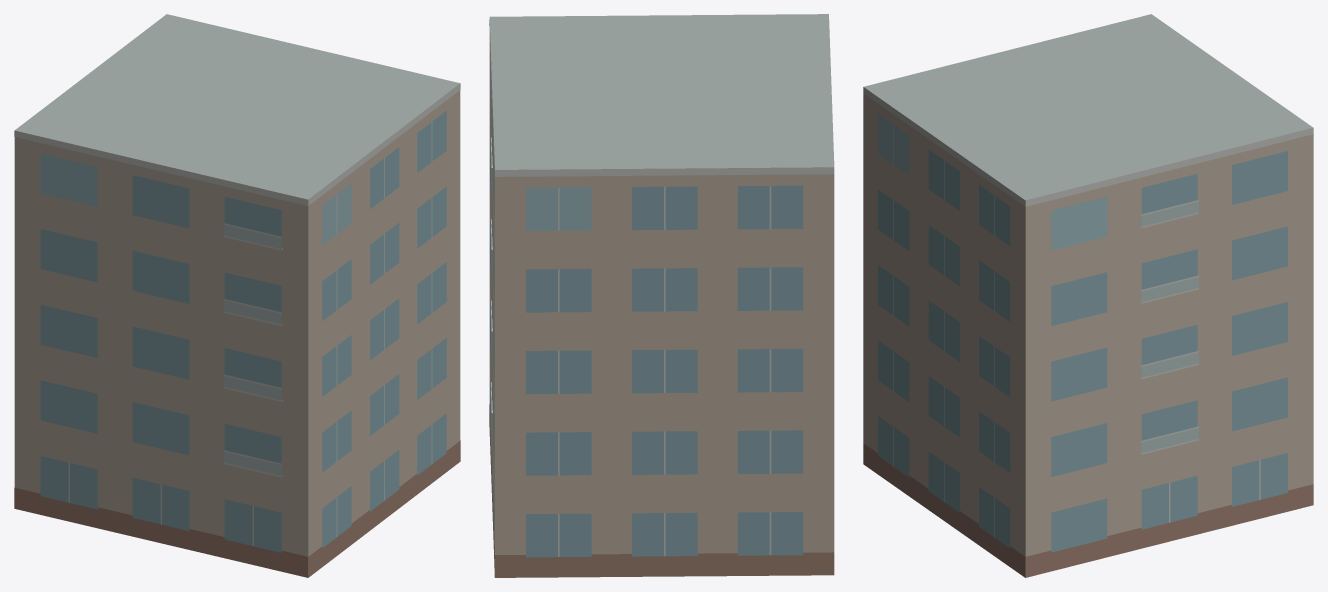
The model's file is survey-upis-32712784.glb.
The picture shows the model from 3 angles, left to right: view 1: azimuth 30°, elevation 25°; view 2: azimuth 150°, elevation 25°; view 3: azimuth 270°, elevation 25°; orthographic projection. The views are drawn at different scales.
Visible parts, largest first — view 1: survey-upis-32712784.tmp; view 2: survey-upis-32712784.tmp; view 3: survey-upis-32712784.tmp.
Part boxes in pixels (x1,y1,x2,y2): survey-upis-32712784.tmp: (14, 14, 460, 577); survey-upis-32712784.tmp: (489, 14, 834, 577); survey-upis-32712784.tmp: (863, 14, 1313, 577).
Size of the model in its own units: 15.21 by 14.35 by 15.52.
